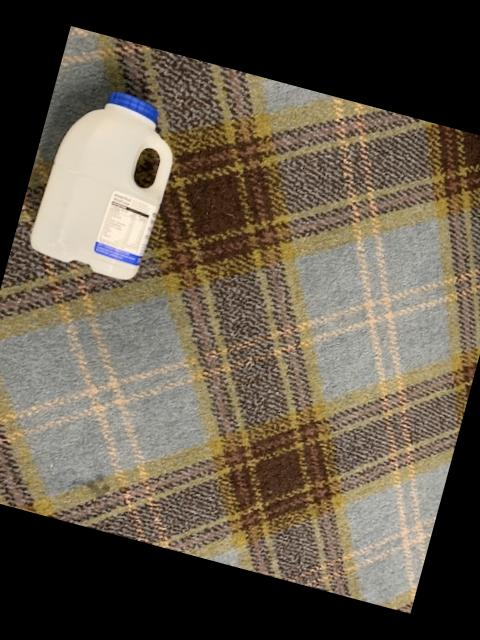plastic: (31, 91, 172, 278)
